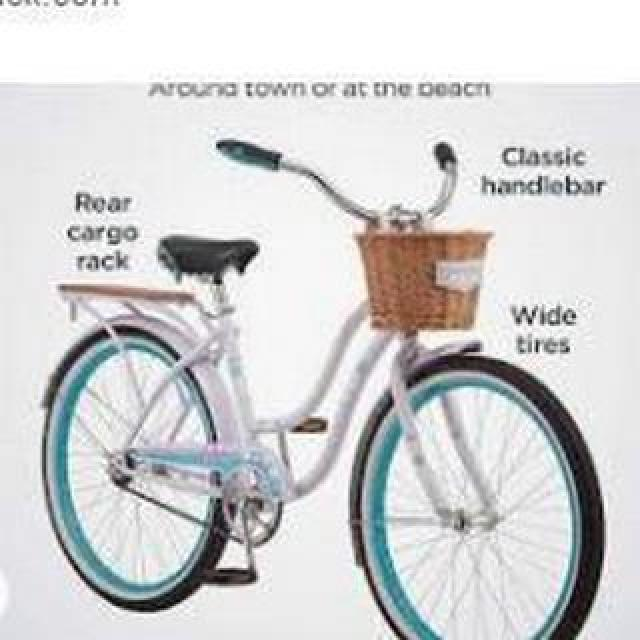Person: (37, 120, 609, 640)
